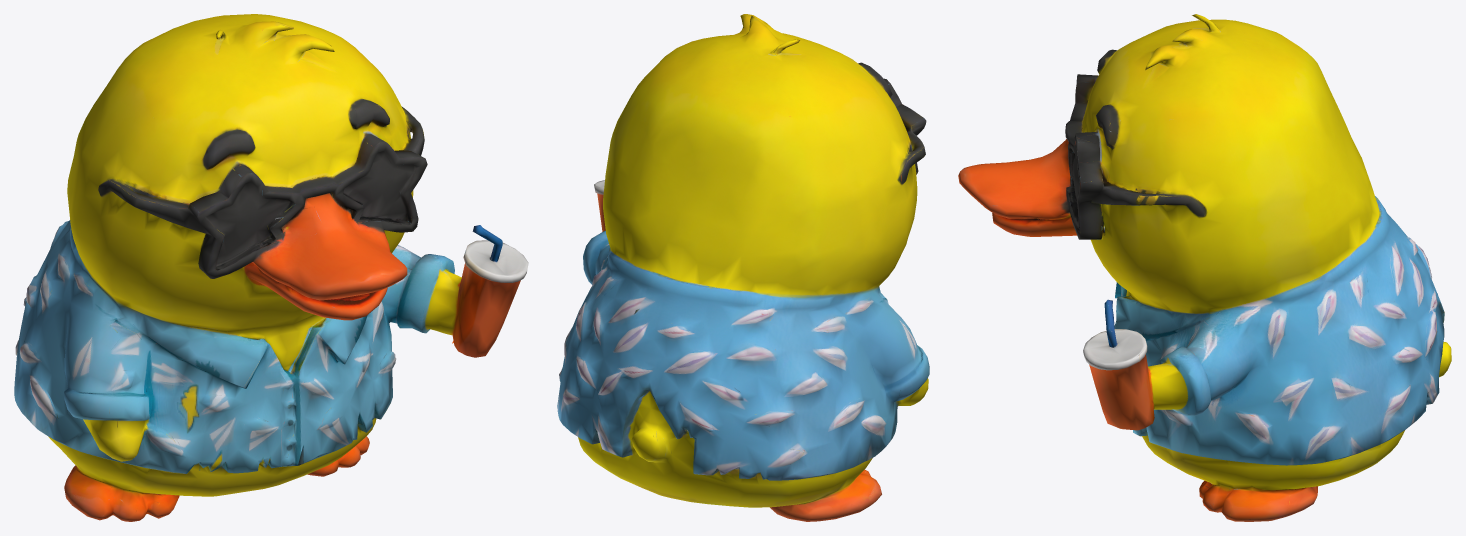
Rendered from player_duck.glb.
3 views of the same model, side by side, from view 1: azimuth 30°, elevation 25°; view 2: azimuth 150°, elevation 25°; view 3: azimuth 270°, elevation 25° (orthographic). The views are drawn at different scales.
Size of the model in its own units: 1.75 by 1.98 by 2.
1 material, 1 textured.
